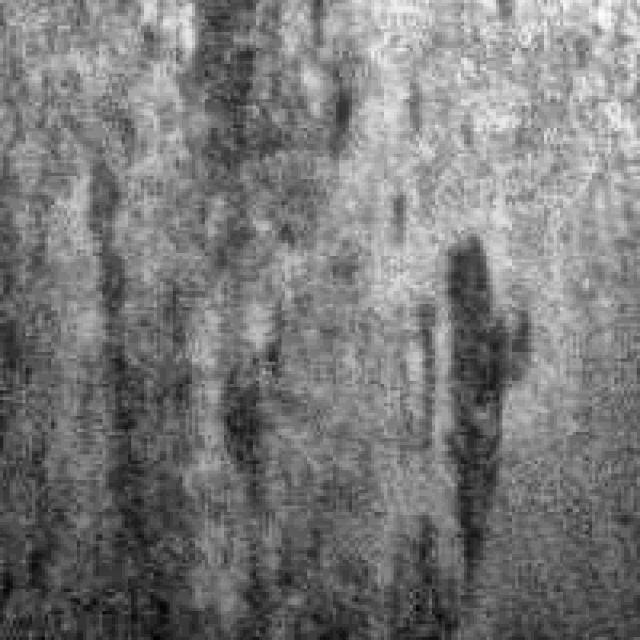Patches: (60, 128, 170, 544), (409, 227, 528, 579), (218, 330, 308, 518), (282, 28, 346, 185)
